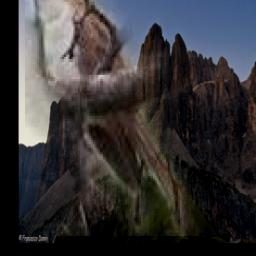Cuckoo: (26, 0, 207, 237)
